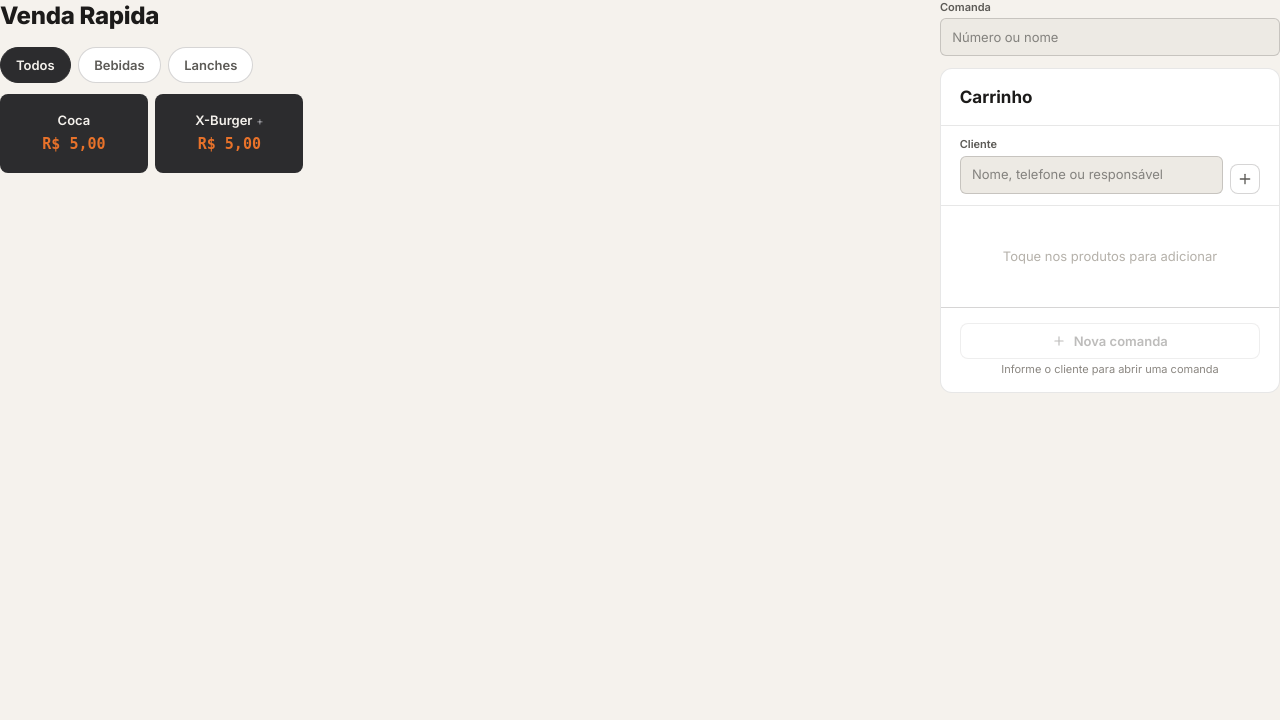
PdvPage › cadastra um cliente pelo + e o vincula ao carrinho
This screenshot has width=1280, height=720.
Expected: the text "Coca" is shown, x1=58 y1=111 x2=90 y2=129
Click the button named "Cadastrar cliente": (1245, 179) x1=1230 y1=164 x2=1260 y2=194
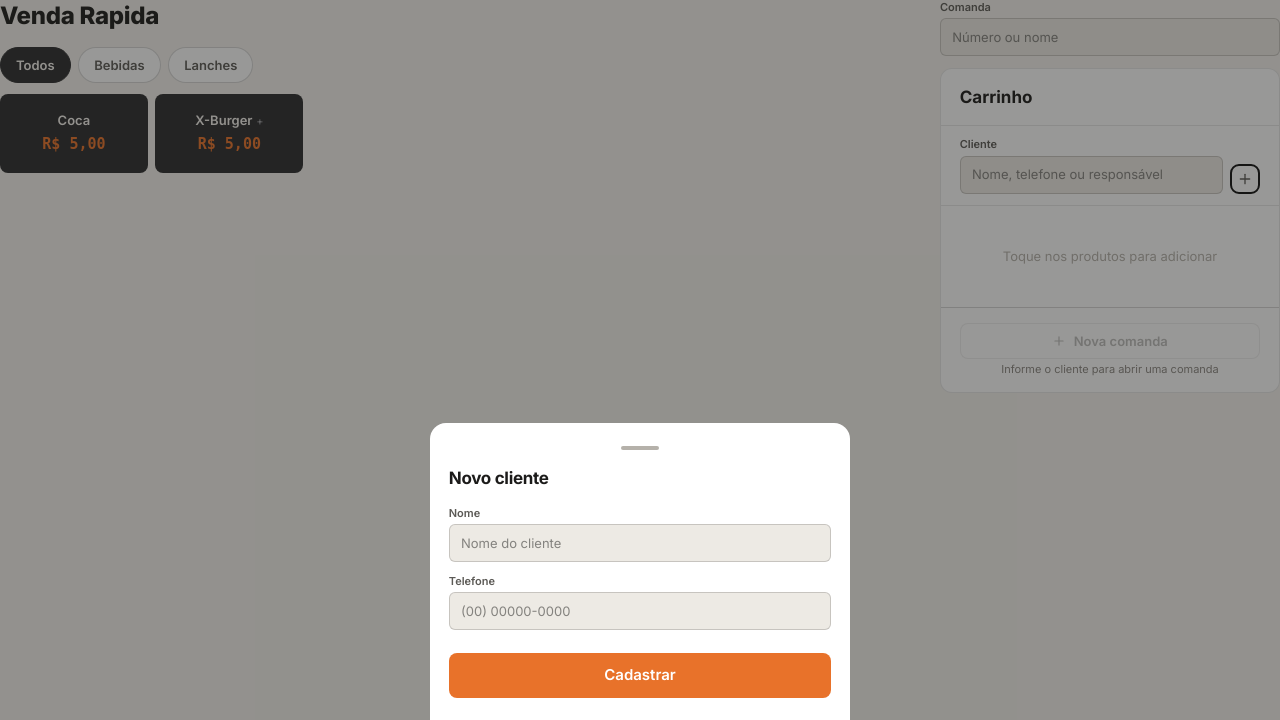
In the field labelled "Nome": (640, 543) x1=449 y1=524 x2=831 y2=562, type "Bento"
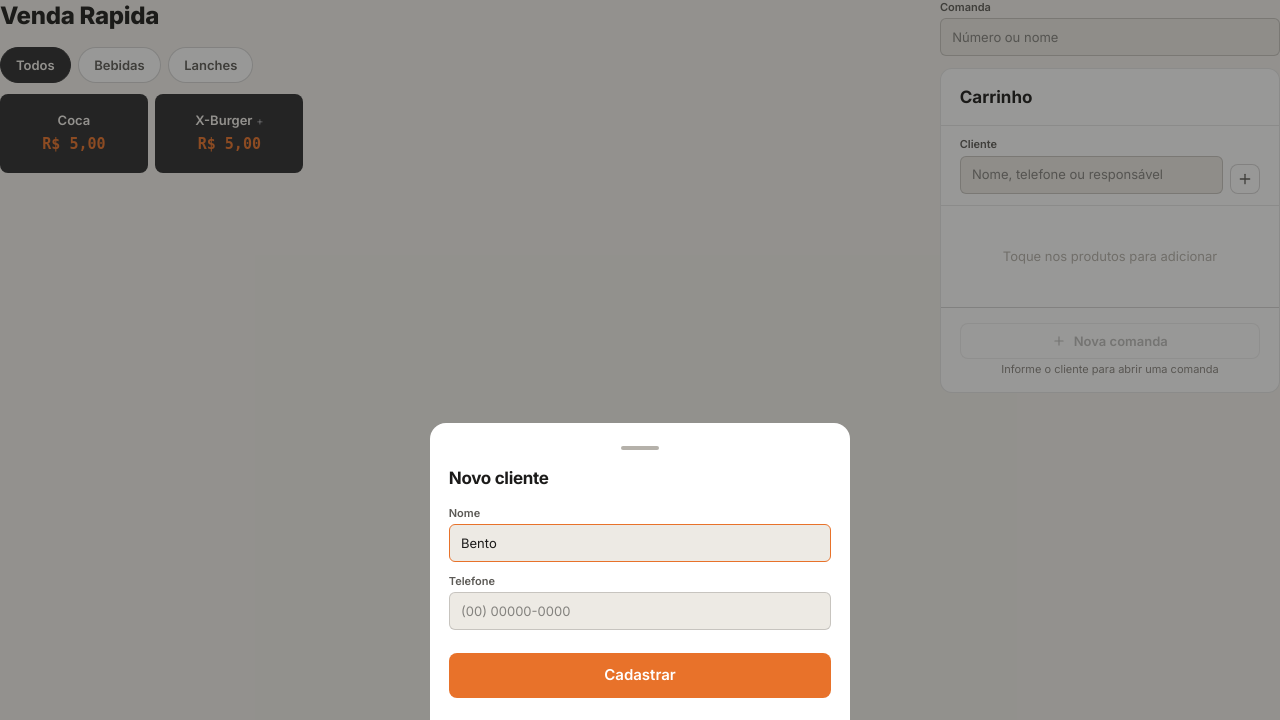
Click the button "Cadastrar": (640, 675) x1=449 y1=652 x2=831 y2=698
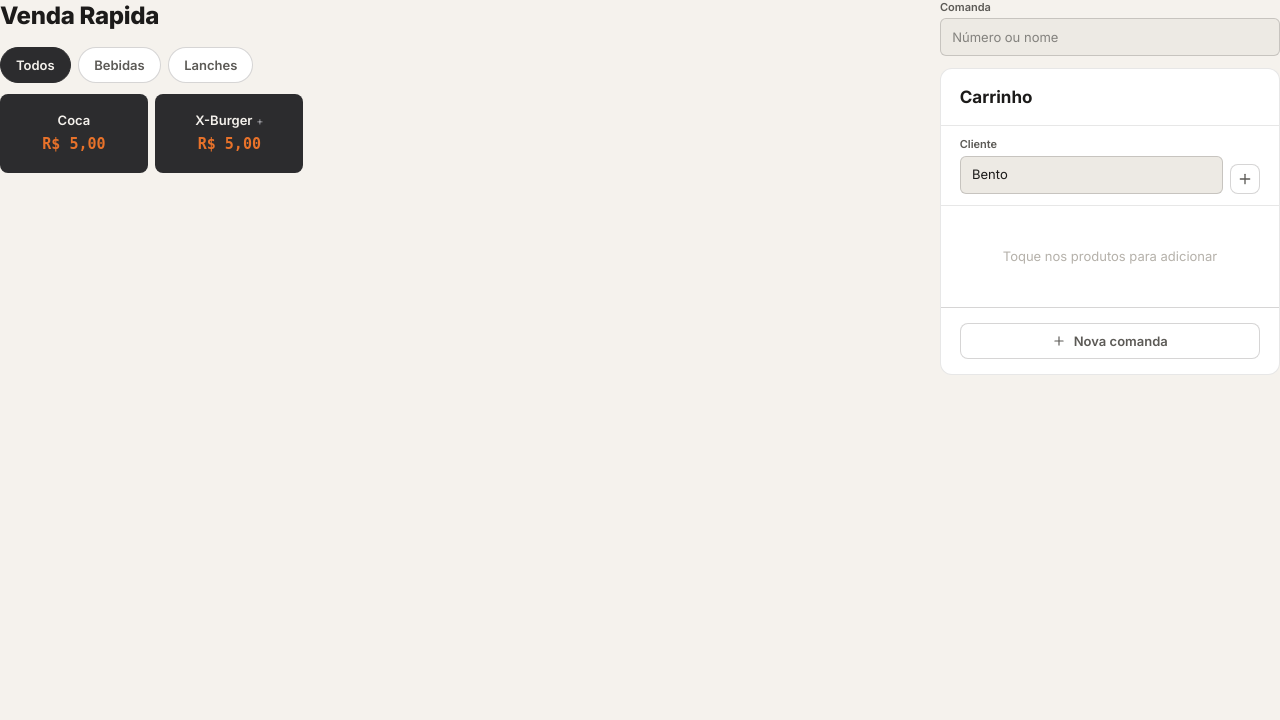
Expected: the dialog is gone
Expected: the dropdown labelled "Cliente" holds "Bento", x1=960 y1=156 x2=1223 y2=194
